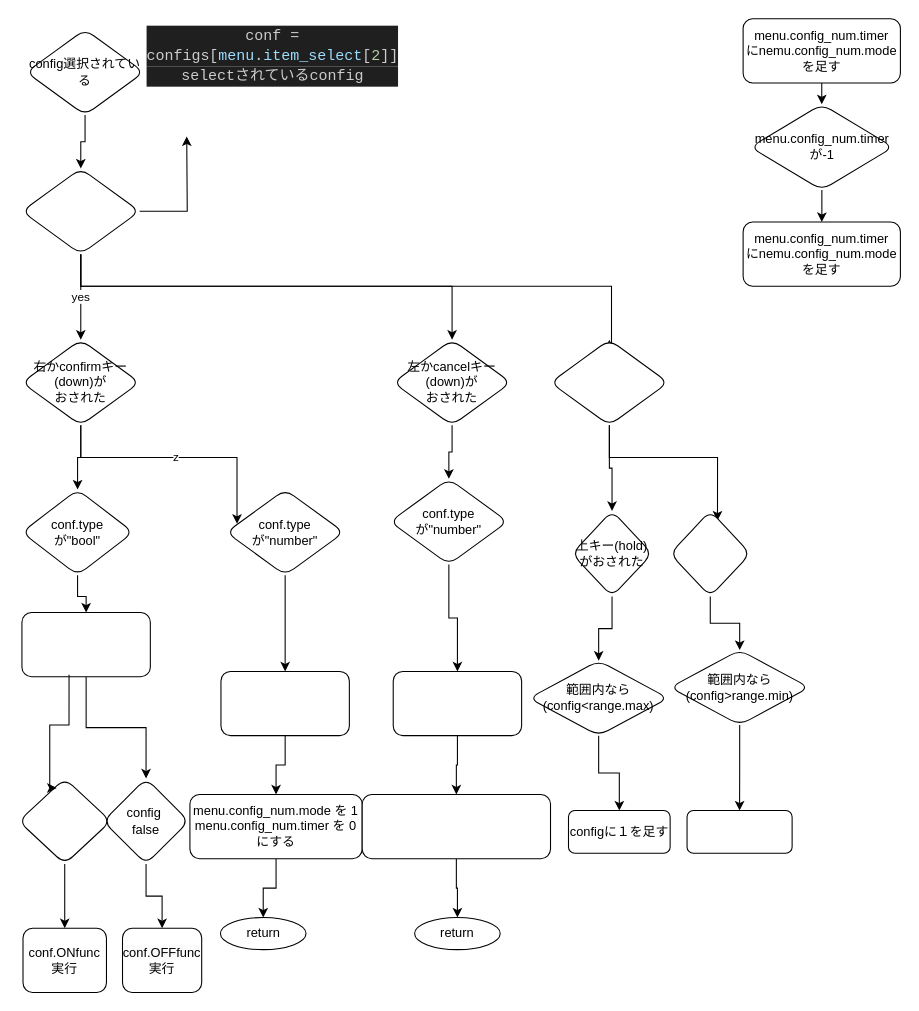
Some shapes in this 919 by 1011 pixel diagram are drawn without their labels. The shapes that lost their labels are listed below. From the top down, each one's box as (x1, y1, x2, y2) in pixels, then its label:
(21, 167, 140, 254): カーソルが範囲内 にいるか
(549, 339, 668, 425): menu.modeが "configNumEdit"
(669, 510, 750, 597): 下キー(hold)がおされた
(21, 612, 150, 677): config 入れ替え
(220, 670, 349, 736): menu.modeを "configNumEdit" にする
(392, 670, 522, 736): menu.modeを "Default" にする
(18, 777, 111, 864): config true
(361, 793, 551, 859): menu.config_num.mode を -1 menu.config_num.timer を 100 にする
(686, 809, 792, 853): configに１を引く
